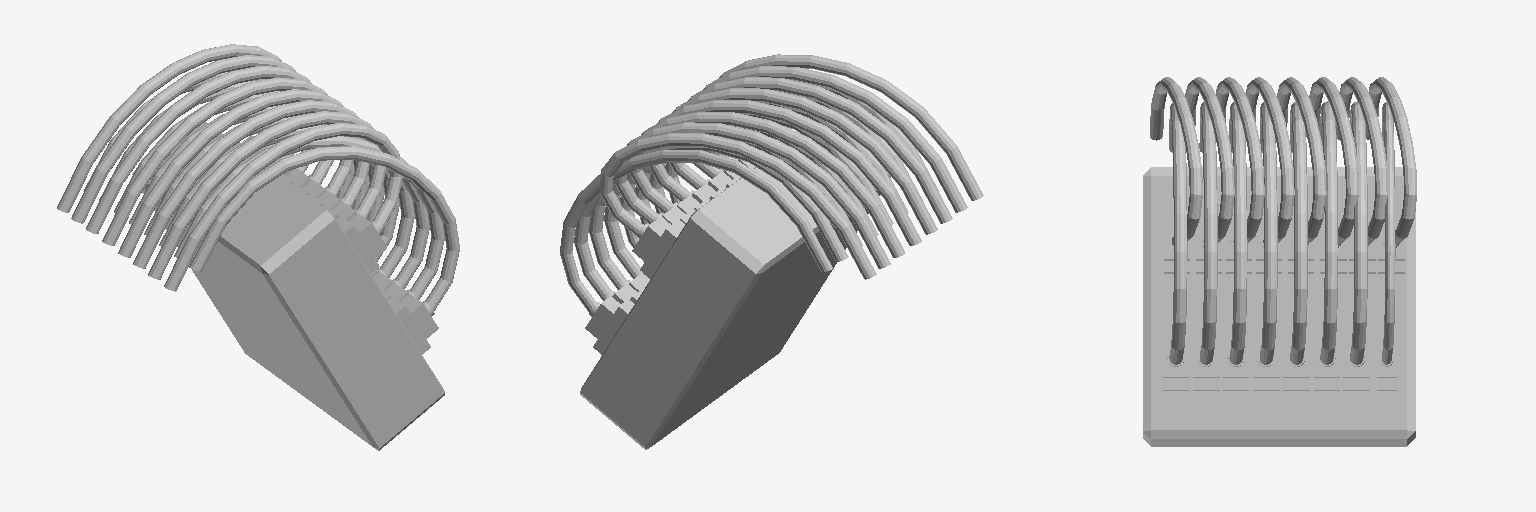
The model's file is шапка шкафа.obj.
3 renders of one model, left to right at view 1: azimuth 30°, elevation 25°; view 2: azimuth 150°, elevation 25°; view 3: azimuth 270°, elevation 25°, orthographic.
Visible parts, largest first — view 1: Cube, BezierCurve, BezierCurve.008, BezierCurve.009, BezierCurve.010, BezierCurve.011, BezierCurve.012, BezierCurve.013, BezierCurve.014, BezierCurve.015, BezierCurve.001, BezierCurve.002 (+6 smaller); view 2: Cube, BezierCurve.015, BezierCurve.007, BezierCurve.014, BezierCurve.013, BezierCurve.012, BezierCurve.011, BezierCurve.010, BezierCurve.008, BezierCurve.009, BezierCurve.006, BezierCurve.005 (+7 smaller); view 3: Cube, BezierCurve.004, BezierCurve.001, BezierCurve.003, BezierCurve.005, BezierCurve.002, BezierCurve, BezierCurve.006, BezierCurve.008, BezierCurve.013, BezierCurve.015, BezierCurve.007 (+20 smaller).
Boxes of the visible parts, x1,y1,x2,y2 form: Cube: [132, 121, 444, 450]; BezierCurve: [189, 146, 459, 310]; BezierCurve.008: [164, 123, 402, 291]; BezierCurve.009: [148, 111, 385, 279]; BezierCurve.010: [133, 100, 369, 268]; BezierCurve.011: [118, 89, 352, 257]; BezierCurve.012: [102, 77, 333, 245]; BezierCurve.013: [86, 66, 311, 233]; BezierCurve.014: [71, 55, 295, 223]; BezierCurve.015: [57, 44, 281, 212]; BezierCurve.001: [174, 136, 444, 299]; BezierCurve.002: [159, 124, 429, 288]; Cube: [580, 149, 890, 449]; BezierCurve.015: [600, 133, 876, 279]; BezierCurve.007: [560, 150, 832, 311]; BezierCurve.014: [614, 122, 890, 268]; BezierCurve.013: [630, 112, 904, 257]; BezierCurve.012: [649, 100, 921, 245]; BezierCurve.011: [669, 88, 937, 234]; BezierCurve.010: [688, 77, 952, 223]; BezierCurve.008: [719, 54, 983, 200]; BezierCurve.009: [703, 66, 967, 212]; BezierCurve.006: [574, 147, 848, 300]; BezierCurve.005: [589, 142, 862, 289]; Cube: [1143, 167, 1415, 446]; BezierCurve.004: [1290, 102, 1307, 364]; BezierCurve.001: [1199, 102, 1217, 364]; BezierCurve.003: [1260, 102, 1277, 364]; BezierCurve.005: [1320, 101, 1337, 364]; BezierCurve.002: [1229, 102, 1247, 364]; BezierCurve: [1169, 103, 1187, 364]; BezierCurve.006: [1350, 101, 1367, 364]; BezierCurve.008: [1150, 77, 1202, 245]; BezierCurve.013: [1306, 77, 1358, 246]; BezierCurve.015: [1366, 77, 1416, 246]; BezierCurve.007: [1382, 102, 1395, 364].
Bounding box in the file's own units: 2.59 × 2.63 × 2.01.